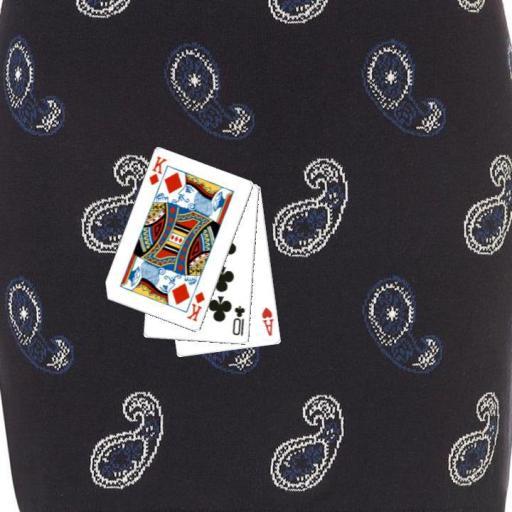10C: (230, 303, 247, 338)
AH: (259, 304, 275, 338)
KD: (184, 289, 207, 323), (146, 153, 169, 187)
